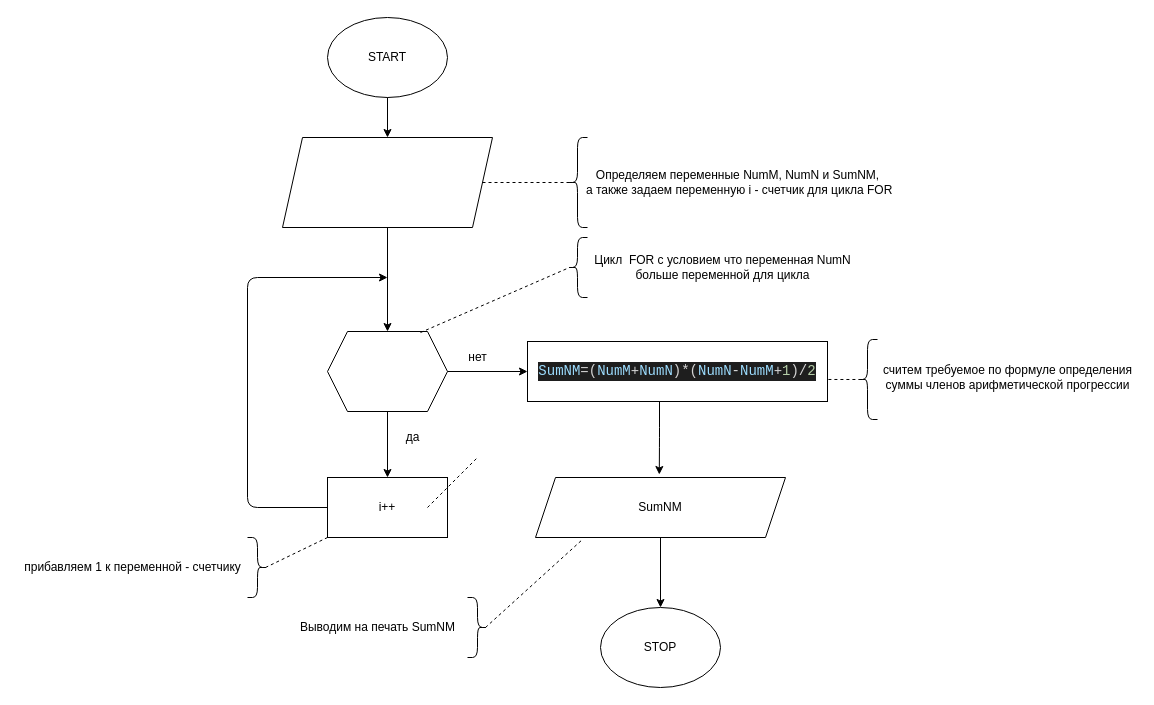
Some shapes in this 1154 by 705 pixel diagram are drawn without their labels. The shapes that lost their labels are listed below. From the top down, each one's centre as x and y in pixels, then its label:
At (x=387, y=182): "NumM NumN SumNM i =NumM".
At (x=387, y=371): "i < NumN".
